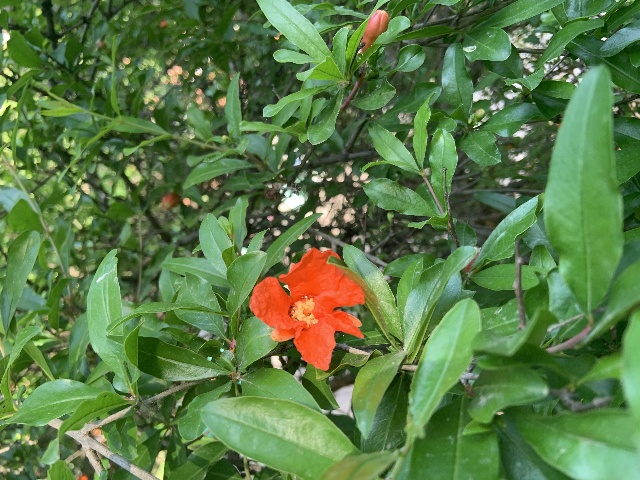bud: (360, 9, 389, 54), (161, 192, 180, 208)
flower: (250, 247, 366, 370)
